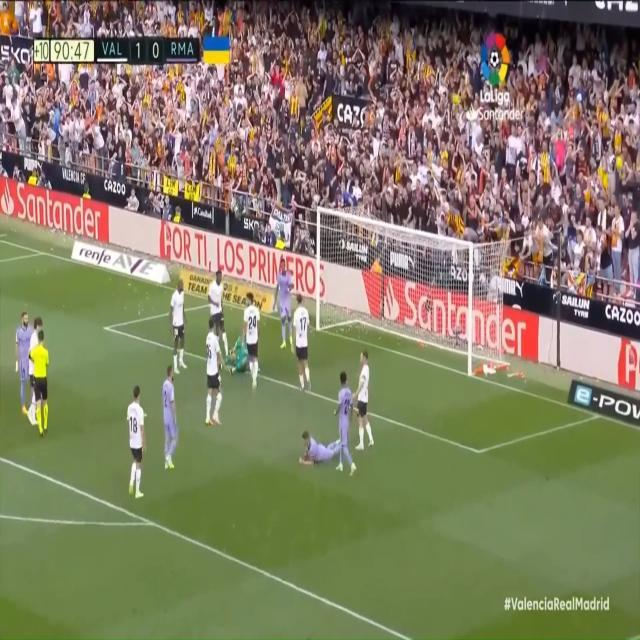goalkeeper: (225, 323, 252, 381)
player: (125, 386, 149, 507), (336, 365, 358, 477), (291, 289, 313, 396), (275, 252, 297, 355), (160, 365, 181, 472), (12, 308, 32, 420), (205, 319, 225, 424), (356, 347, 375, 454), (242, 289, 260, 393), (299, 432, 346, 469), (27, 313, 44, 413), (171, 277, 187, 376), (210, 270, 227, 363)
referee: (30, 329, 49, 441)
